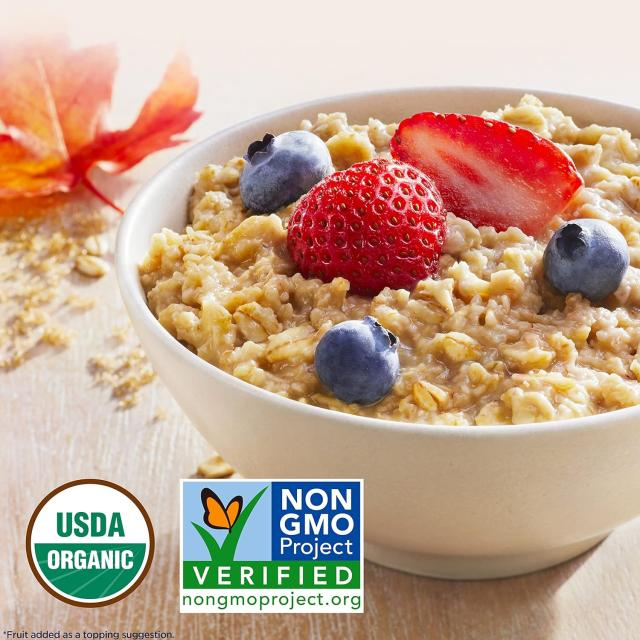avena: (155, 84, 630, 422)
